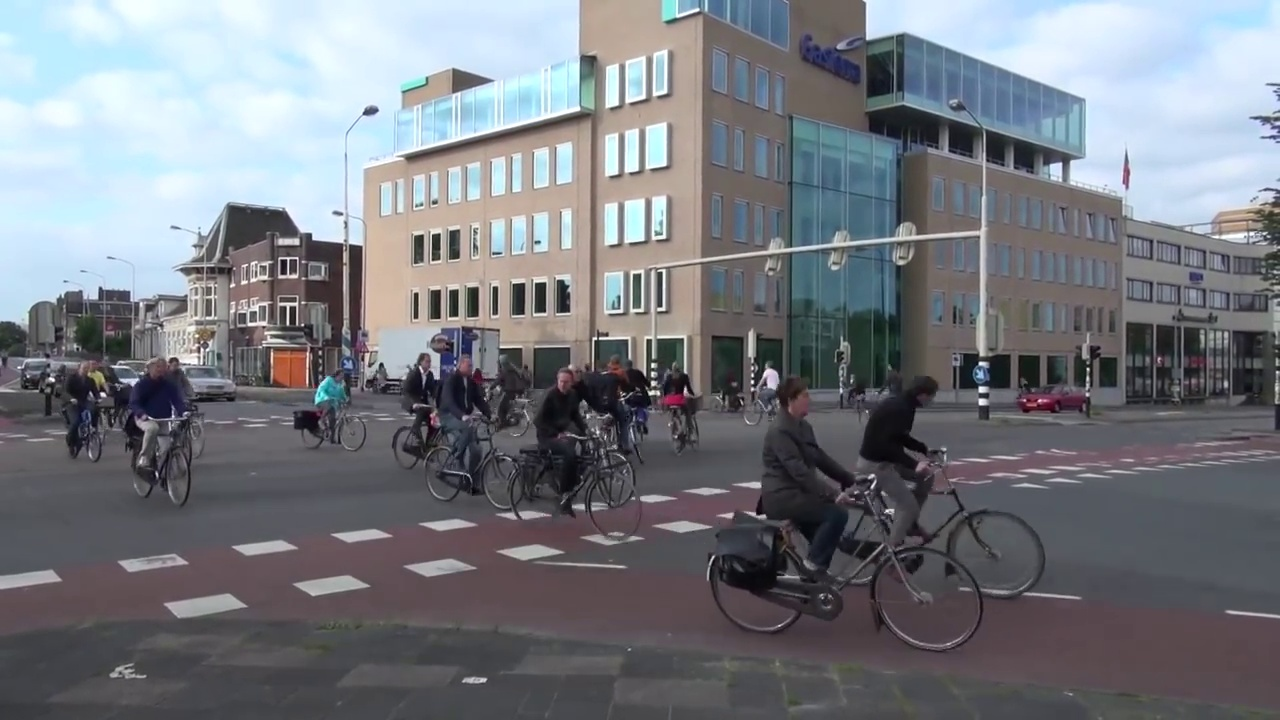cyclist_back: (657, 356, 706, 460)
cyclist_front: (131, 351, 195, 517), (60, 360, 107, 463)
cyclist_side: (704, 385, 987, 660), (843, 363, 1035, 587), (513, 363, 640, 541), (426, 363, 524, 507), (301, 367, 374, 446), (742, 357, 784, 425)
